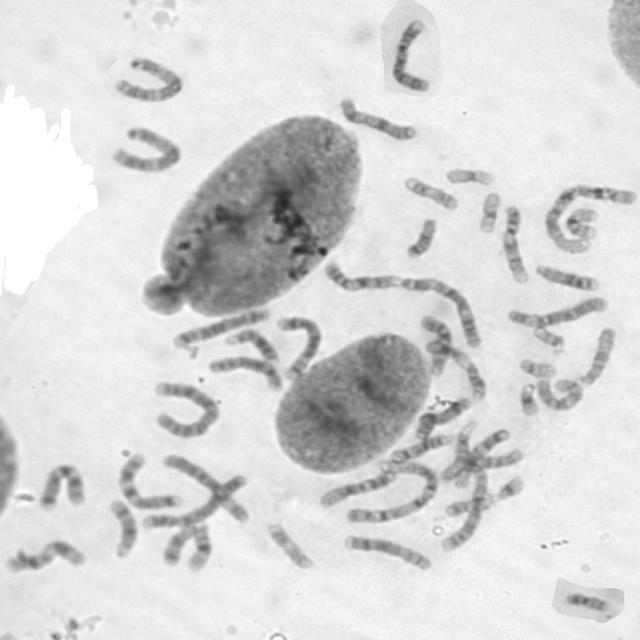A1: (540, 180, 638, 254), (341, 456, 441, 525)
A2: (437, 446, 524, 552), (150, 379, 221, 439)
A3: (400, 275, 486, 347), (110, 54, 186, 104)
B4: (139, 471, 250, 531), (388, 17, 432, 92)
B5: (169, 305, 272, 349), (273, 313, 323, 382)
C10: (416, 310, 454, 376), (533, 375, 585, 411)
C11: (423, 337, 487, 400), (1, 536, 89, 574)
C12: (442, 426, 515, 488), (314, 466, 399, 510)
C6: (159, 450, 252, 526), (506, 293, 608, 329)
C7: (114, 450, 184, 510), (37, 460, 87, 510)
C8: (339, 532, 433, 573), (204, 352, 286, 392)
C9: (318, 260, 408, 294), (499, 202, 531, 286)
D13: (530, 260, 602, 292), (223, 326, 280, 363)
D14: (387, 430, 452, 464), (106, 496, 140, 560)
D15: (572, 323, 618, 387), (440, 418, 484, 483)
E16: (183, 519, 214, 574), (560, 203, 602, 241)
E17: (262, 519, 316, 571), (400, 172, 461, 212)
E18: (159, 521, 207, 569), (402, 214, 438, 260)
F19: (474, 188, 503, 235), (442, 164, 496, 187)
F20: (443, 494, 500, 518), (562, 589, 611, 612)
G21: (491, 471, 526, 503), (517, 381, 539, 416)
G22: (528, 324, 568, 354), (515, 356, 558, 379)
X: (335, 94, 420, 142), (411, 394, 471, 442)
